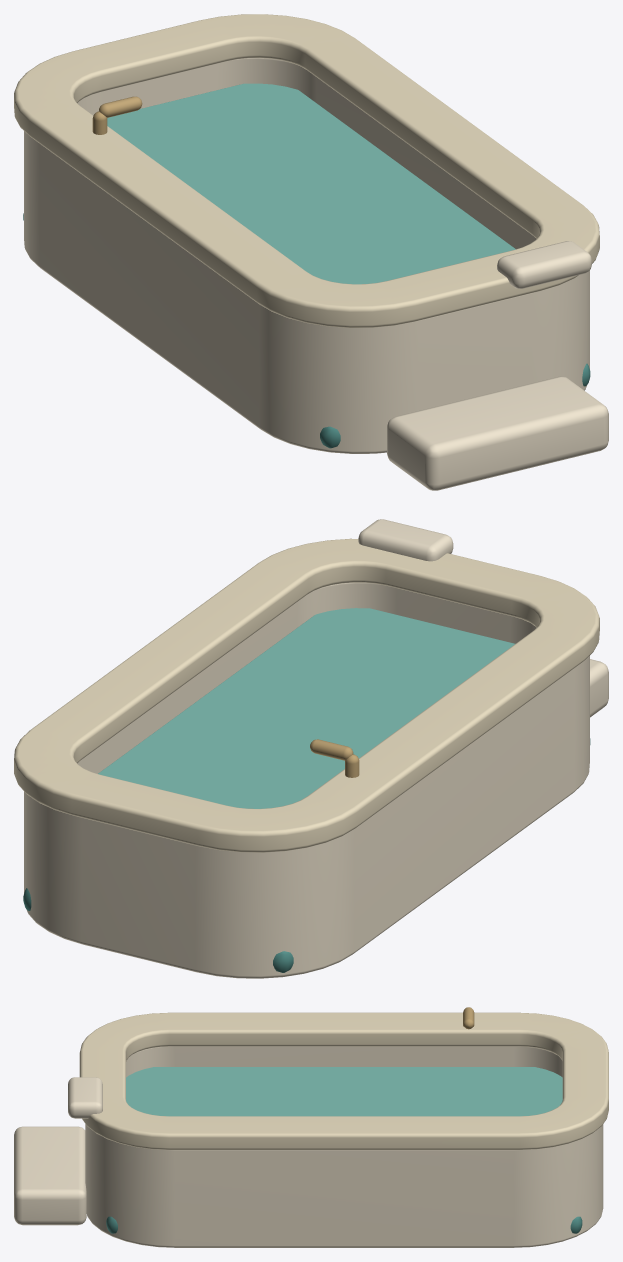
File: private_bath.glb
3 views of the same model, one above another, from view 1: azimuth 30°, elevation 25°; view 2: azimuth 150°, elevation 25°; view 3: azimuth 270°, elevation 25° (orthographic). The views are drawn at different scales.
Parts seen in each view (by area): view 1: Body_linen, Body_cream, Water_water, Body_gold; view 2: Body_linen, Body_cream, Water_water, Body_gold; view 3: Body_linen, Body_cream, Water_water, Body_teal.
Boxes of the visible parts, x1=… form: Body_linen: x1=24, y1=58, x2=608, y2=490; Body_cream: x1=14, y1=14, x2=599, y2=327; Water_water: x1=107, y1=83, x2=515, y2=284; Body_gold: x1=92, y1=96, x2=142, y2=134; Body_linen: x1=24, y1=519, x2=608, y2=978; Body_cream: x1=14, y1=538, x2=599, y2=852; Water_water: x1=98, y1=608, x2=515, y2=808; Body_gold: x1=310, y1=739, x2=359, y2=777; Body_linen: x1=14, y1=1046, x2=603, y2=1247; Body_cream: x1=79, y1=1012, x2=608, y2=1149; Water_water: x1=126, y1=1067, x2=562, y2=1116; Body_teal: x1=106, y1=1216, x2=582, y2=1233.
Size of the model in its own units: 2.08 by 1.11 by 4.25.
